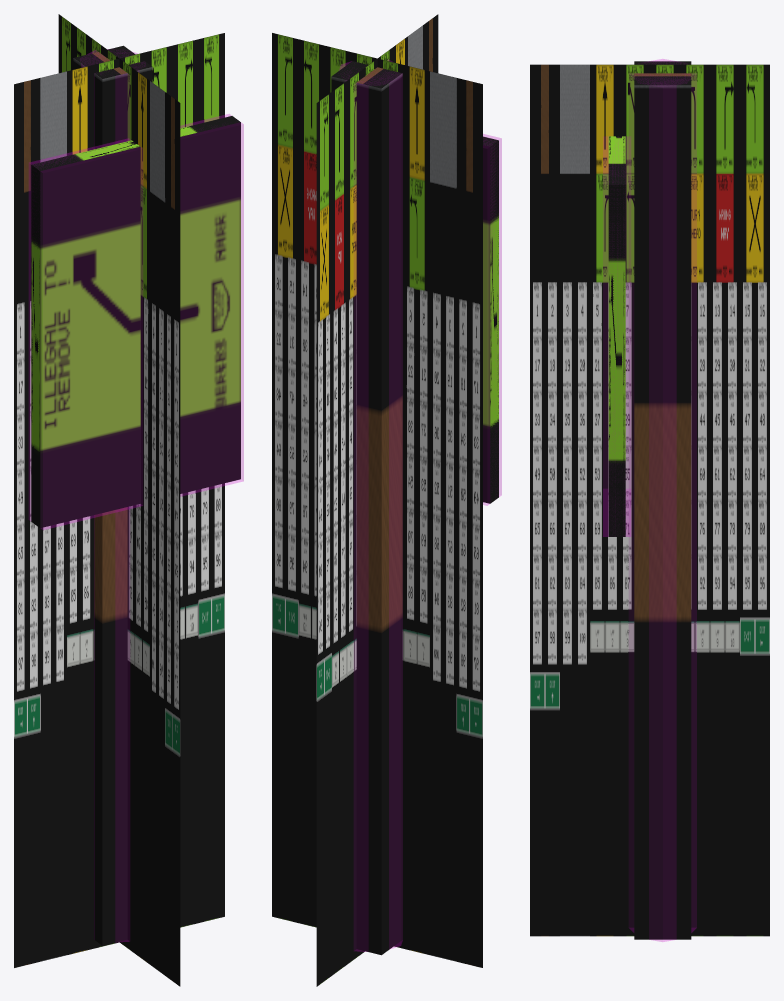
File: arrow_slight_right.dae
3 renders of one model, left to right at view 1: azimuth 30°, elevation 25°; view 2: azimuth 150°, elevation 25°; view 3: azimuth 270°, elevation 25°, orthographic.
Parts seen in each view (by area): view 1: arrow_slight_right_a50, arrow_slight_right_a800, Colmesh_sign-1, Colmesh_post-1, arrow_slight_right_a200; view 2: arrow_slight_right_a50, arrow_slight_right_a800, Colmesh_post-1, arrow_slight_right_a200, Colmesh_sign-1; view 3: arrow_slight_right_a50, arrow_slight_right_a800, Colmesh_post-1, Colmesh_sign-1.
Part boxes in pixels (<box>): arrow_slight_right_a50: <box>14,14,224,986</box>; arrow_slight_right_a800: <box>31,45,240,945</box>; Colmesh_sign-1: <box>29,114,243,529</box>; Colmesh_post-1: <box>81,49,138,941</box>; arrow_slight_right_a200: <box>94,52,151,944</box>; arrow_slight_right_a50: <box>272,14,482,986</box>; arrow_slight_right_a800: <box>331,61,498,955</box>; Colmesh_post-1: <box>339,59,402,951</box>; arrow_slight_right_a200: <box>349,63,402,950</box>; Colmesh_sign-1: <box>483,134,501,505</box>; arrow_slight_right_a50: <box>530,64,769,936</box>; arrow_slight_right_a800: <box>608,61,691,939</box>; Colmesh_post-1: <box>629,59,696,941</box>; Colmesh_sign-1: <box>603,137,630,536</box>.
Size of the model in its own units: 0.42 by 0.42 by 1.68.
2 materials, 1 textured.
